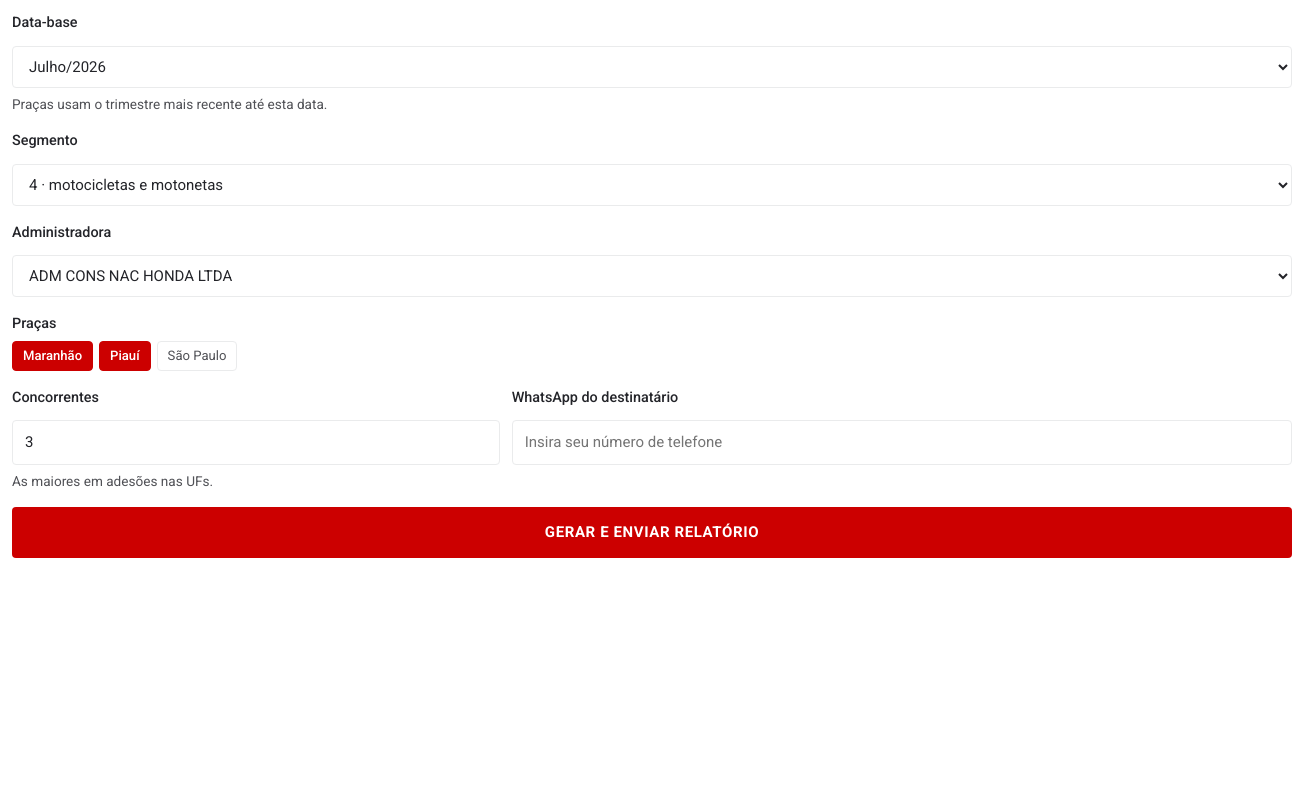
Test: painel de consulta › sem data-base, segmento e administradora, avisa em cada campo
Select "Escolha a data-base" in the dropdown labelled "Data-base" at [652, 67], box [12,46,1292,88]
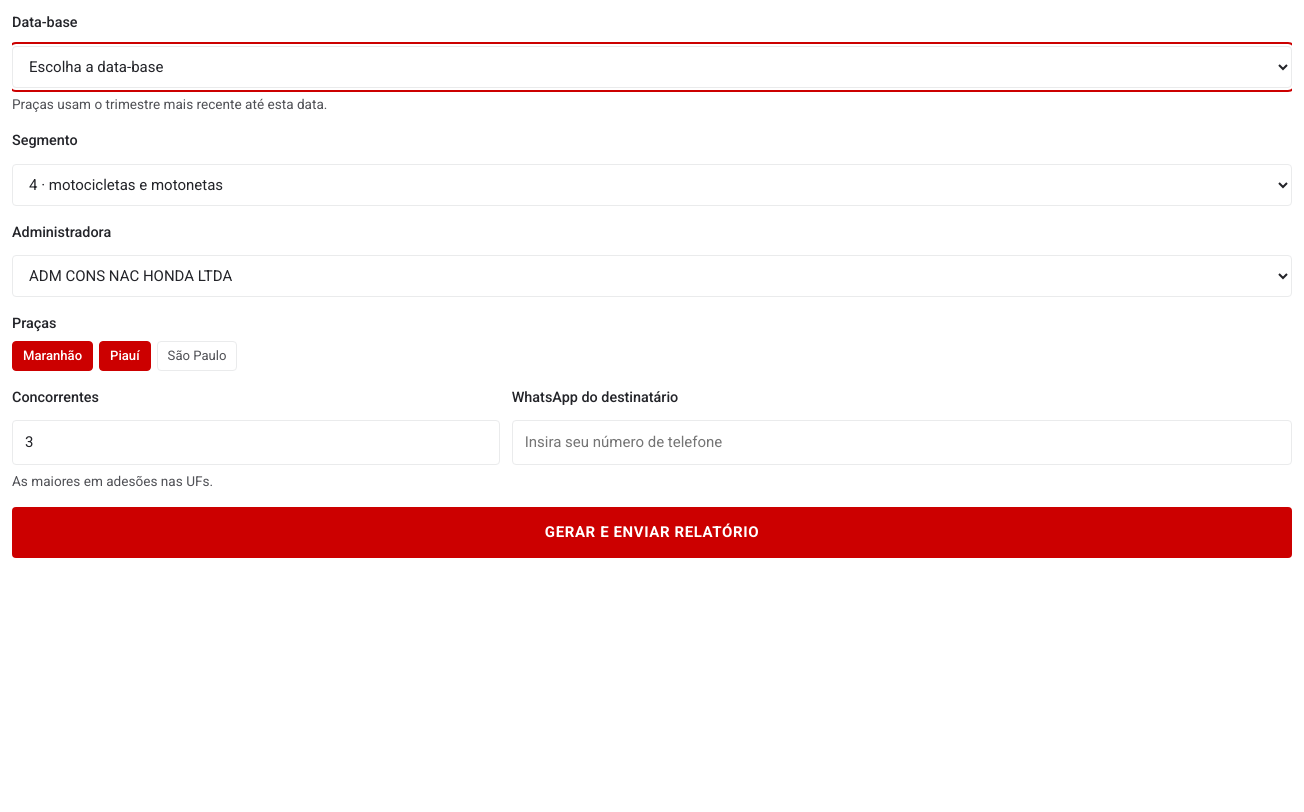
Select "Escolha o segmento" in the dropdown labelled "Segmento" at [652, 185], box [12,164,1292,206]
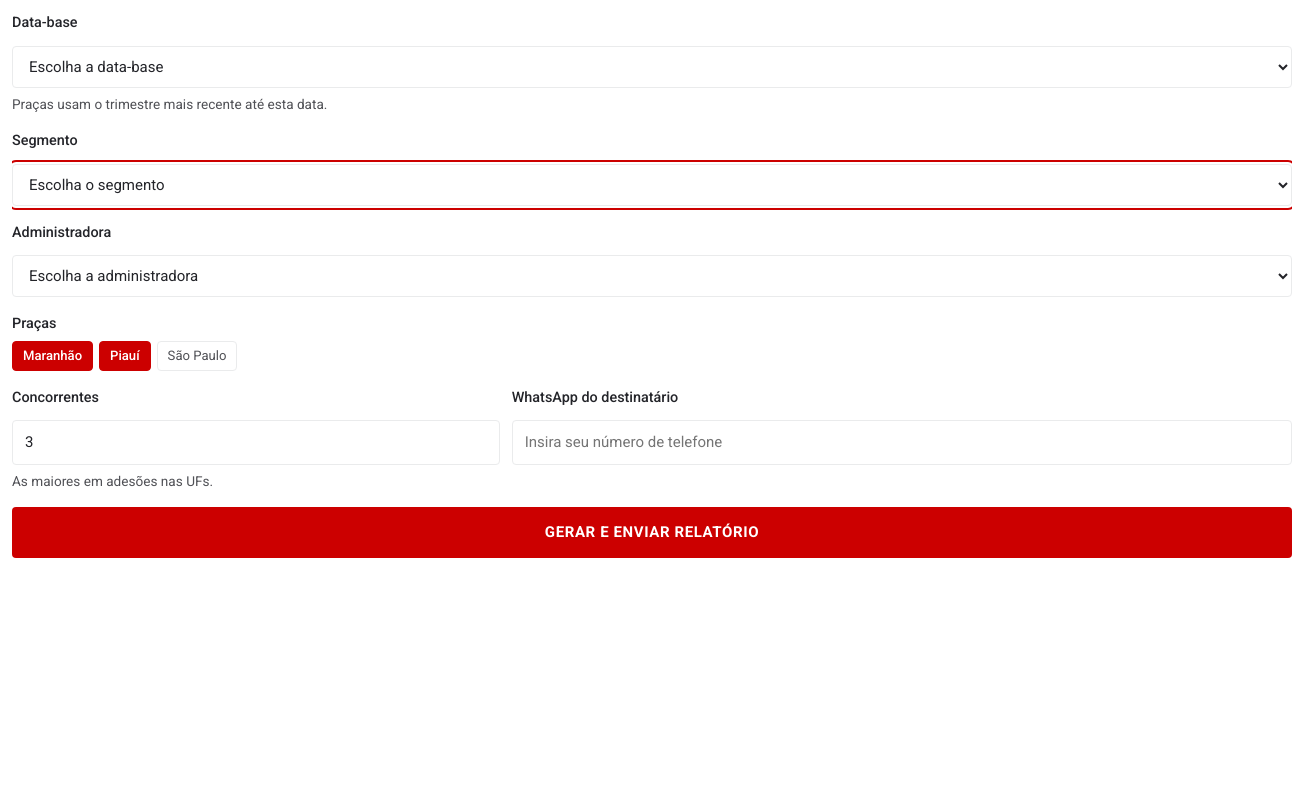
Click the button "Gerar e enviar relatório" at [652, 532], box [12,507,1292,558]
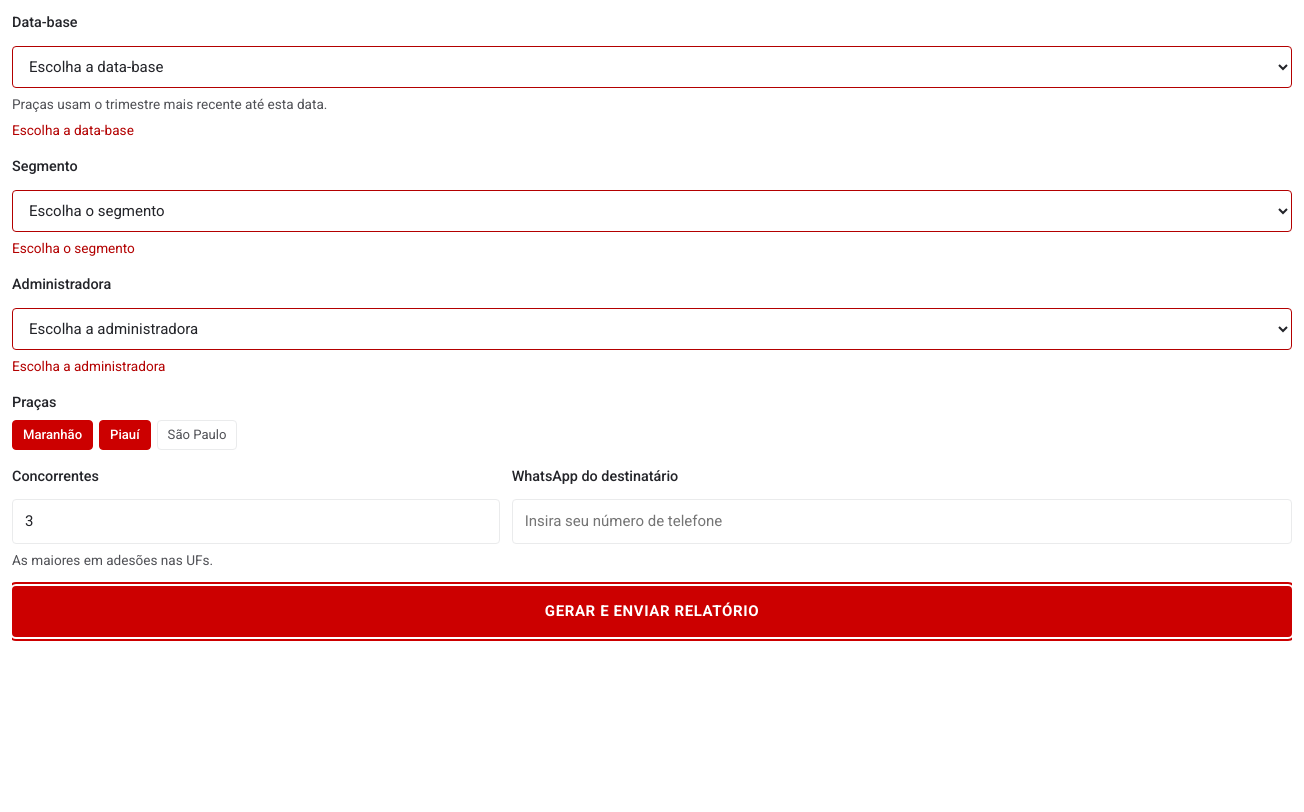
Expected: the text "Escolha a data-base" is shown, [12,122,134,138]
Expected: the text "Escolha o segmento" is shown, [12,240,135,256]
Expected: the text "Escolha a administradora" is shown, [12,358,165,374]
